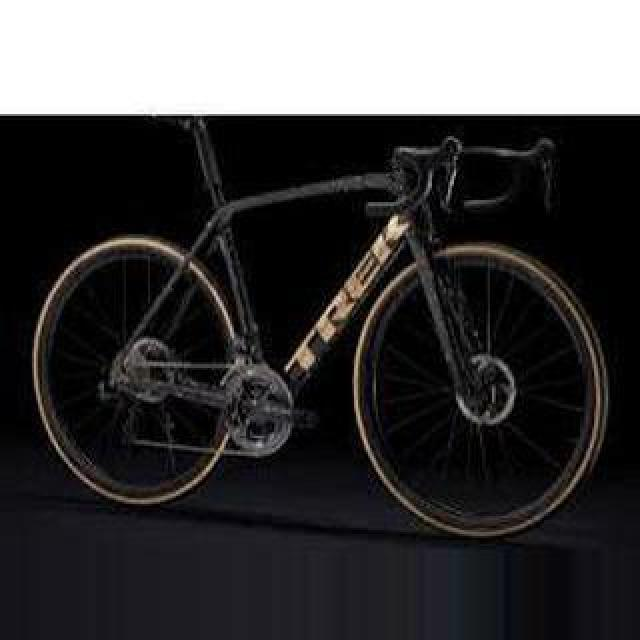Person: (27, 115, 611, 543)
